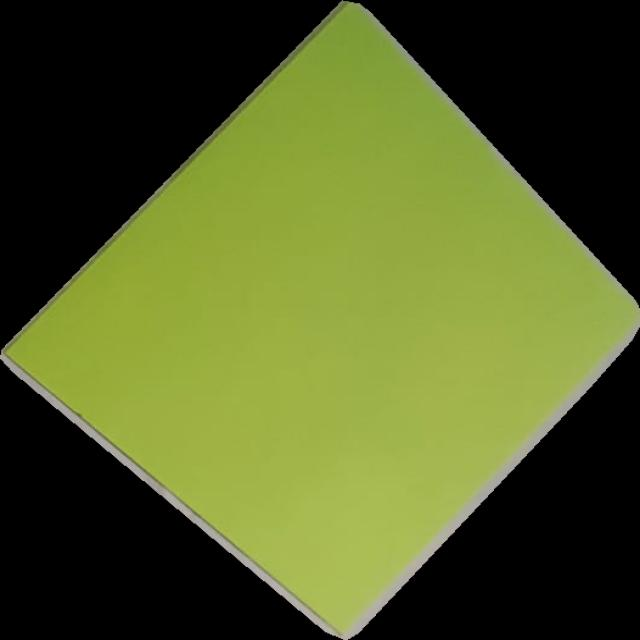Boxes: (0, 0, 640, 640)
